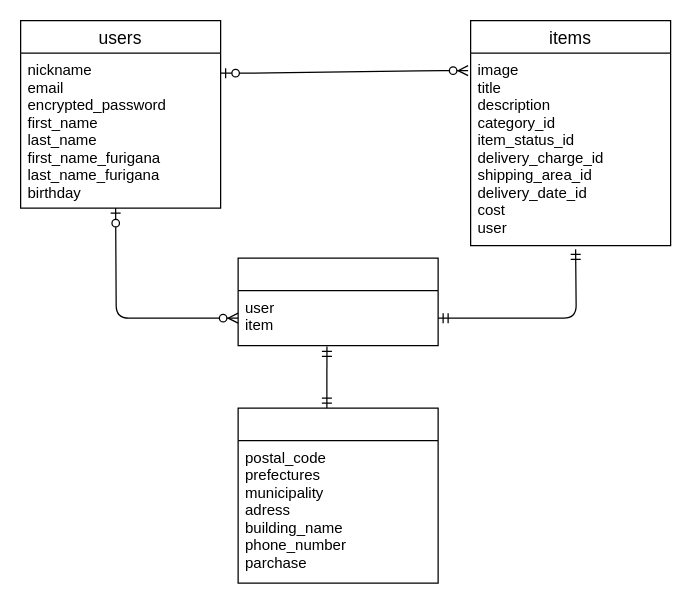
The diagram is 691 pixels wide and 604 high, and some of its shapes have lost their labels. The shapes that lost their labels are listed below. From the top down, each one's box as (x1, y1, x2, y2) in pixels, then its label:
(237, 257, 438, 346): parchases
(237, 407, 438, 583): adresses
